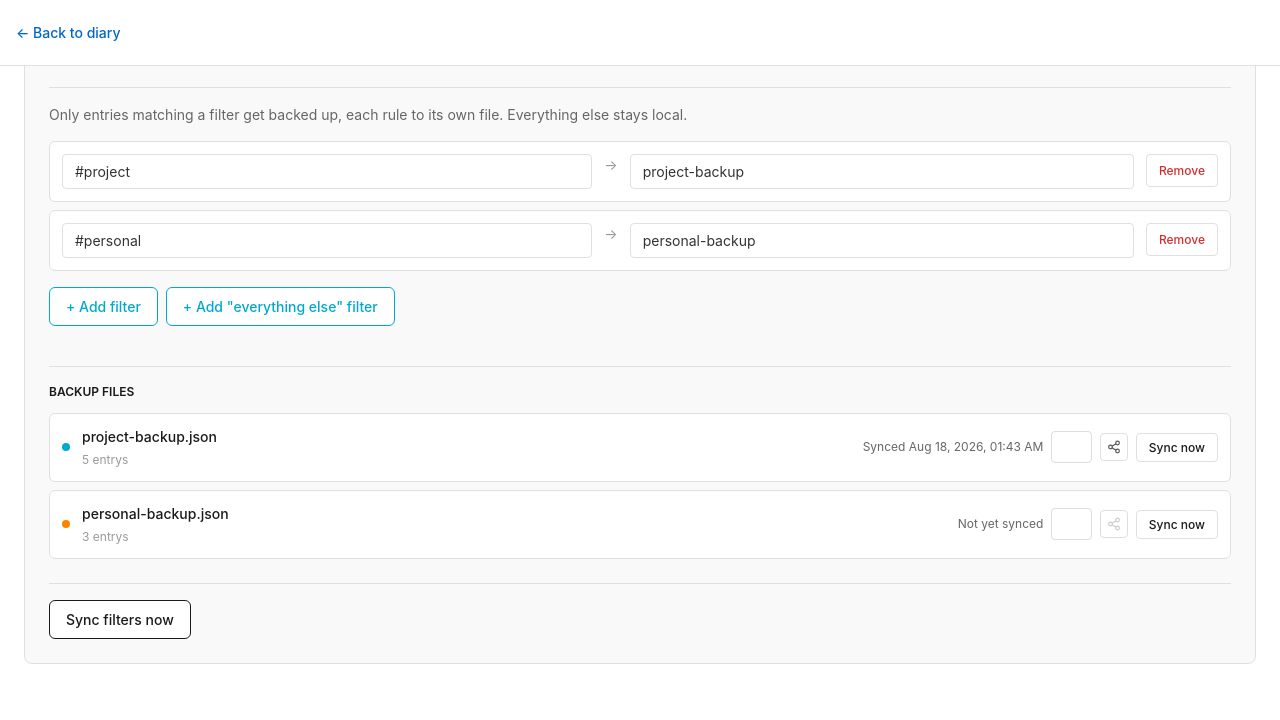
Test: SettingsView - Download Button › clicking download button opens dropdown showing both option labels
(page scrolled)
Step 1. Click the button named "Download backup file" next to "Synced Aug 18, 2026, 01:43 AM" → coordinates (1072, 447), box [1051,431,1092,463]
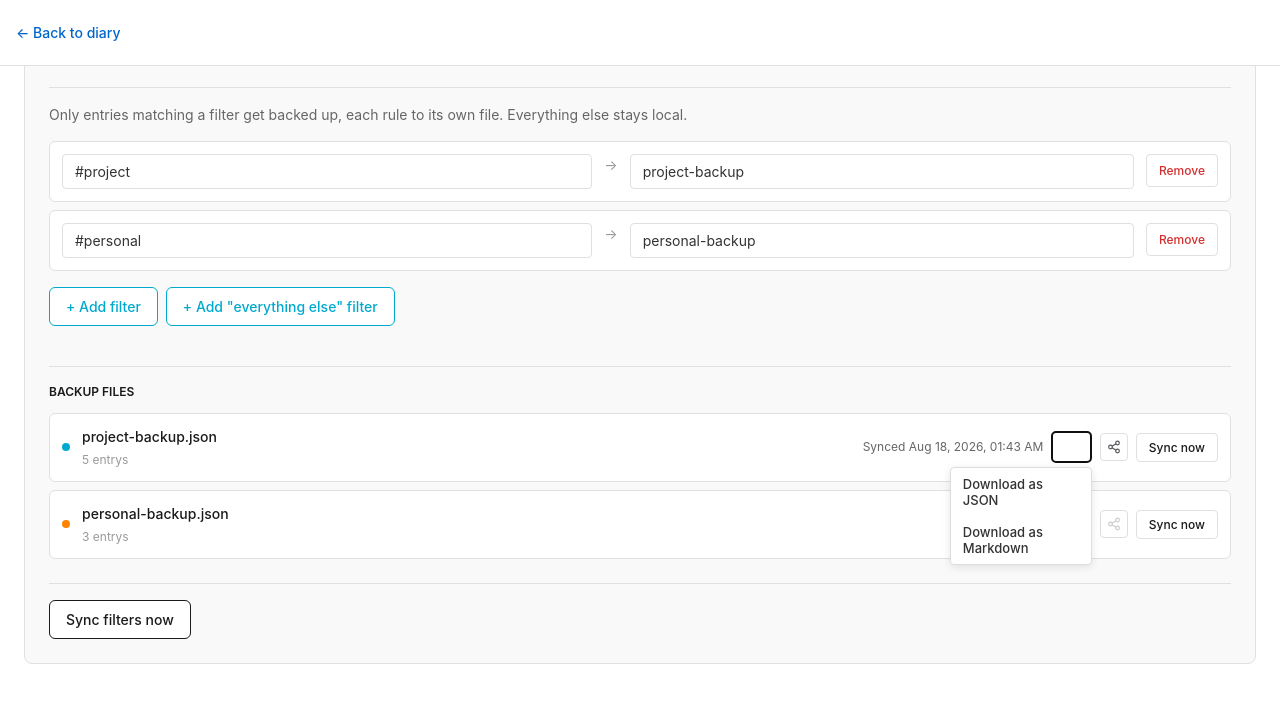
Expected: the button "Download as JSON" is shown, [951,468,1091,516]
Expected: the button "Download as Markdown" is shown, [951,516,1091,564]
